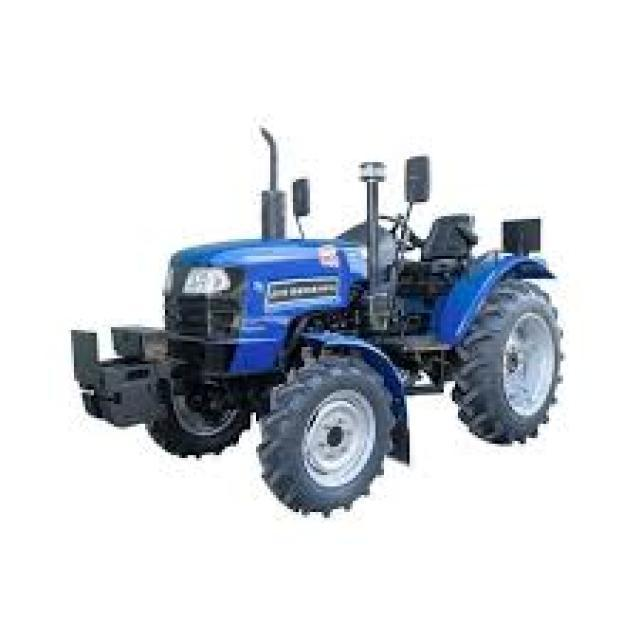Tratores - v5 YOLO V8L 2024-11-13: (147, 219, 567, 517)
